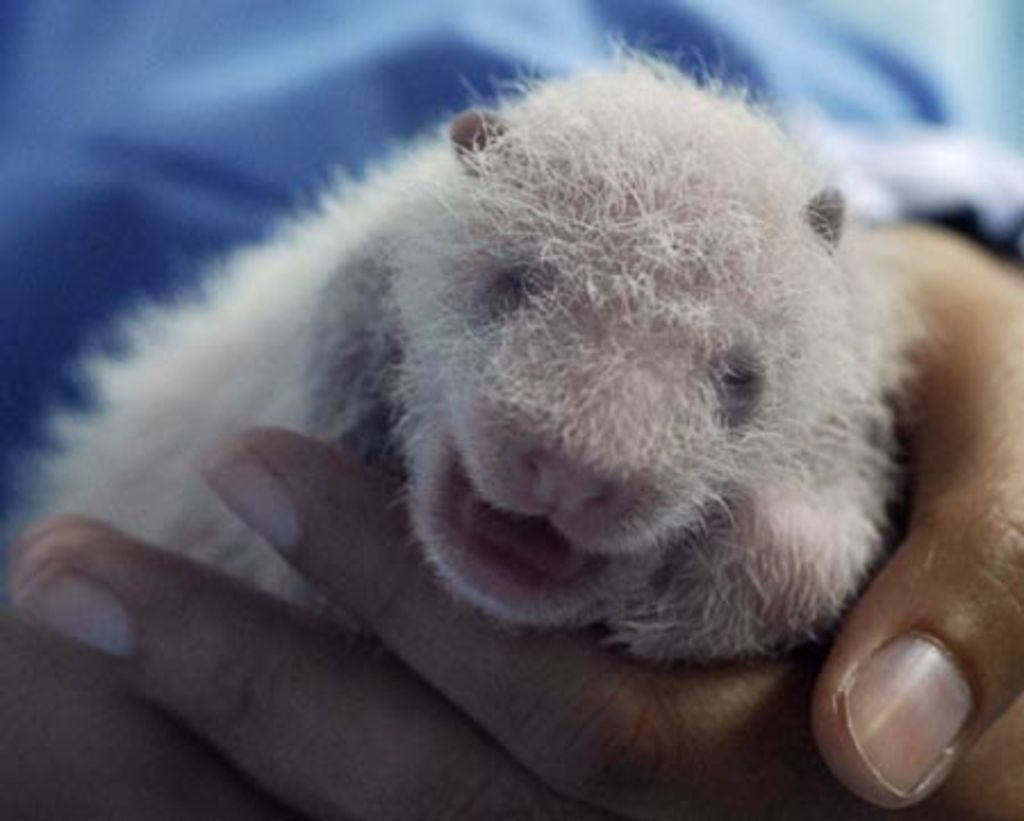Human_hand: (0, 221, 1024, 821)
